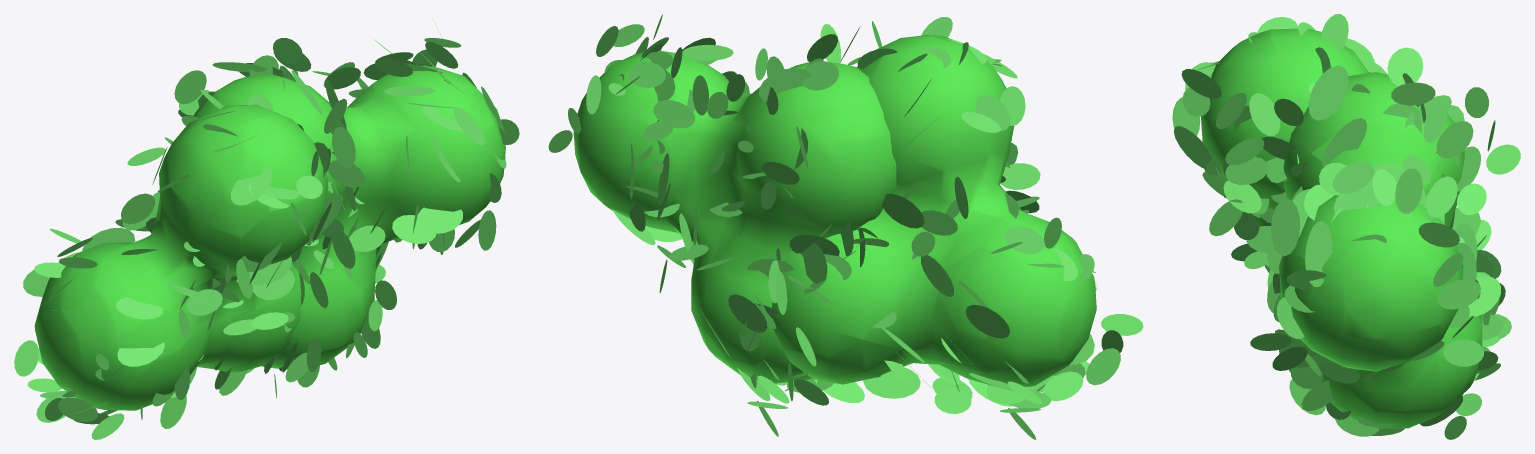
File: bush.fbx
3 renders of one model, left to right at view 1: azimuth 30°, elevation 25°; view 2: azimuth 150°, elevation 25°; view 3: azimuth 270°, elevation 25°, orthographic. The views are drawn at different scales.
Visible parts, largest first — view 1: Mball.001, Mball.003, Mball.001|leaves|Dupli|, Mball.001|leaves|Dupli|30, Mball.003|leaves|Dupli|48, Mball.003|leaves|Dupli|, Mball.001|leaves|Dupli|3, Mball.003|leaves|Dupli|18, Mball.001|leaves|Dupli|12, Mball.001|leaves|Dupli|48, Mball.001|leaves|Dupli|27, Mball.003|leaves|Dupli|27 (+24 smaller); view 2: Mball.001, Mball.003, Mball.003|leaves|Dupli|36, Mball.001|leaves|Dupli|12, Mball.003|leaves|Dupli|48, Mball.001|leaves|Dupli|3, Mball.003|leaves|Dupli|18, Mball.001|leaves|Dupli|30, Mball.003|leaves|Dupli|12, Mball.001|leaves|Dupli|6, Mball.003|leaves|Dupli|, Mball.001|leaves|Dupli|24 (+20 smaller); view 3: Mball.003, Mball.001, Mball.003|leaves|Dupli|18, Mball.003|leaves|Dupli|, Mball.001|leaves|Dupli|, Mball.003|leaves|Dupli|39, Mball.003|leaves|Dupli|48, Mball.001|leaves|Dupli|45, Mball.001|leaves|Dupli|39, Mball.001|leaves|Dupli|36, Mball.003|leaves|Dupli|36, Mball.003|leaves|Dupli|45 (+20 smaller).
Part boxes in pixels (x1,y1,x2,y2): Mball.001: (34,104,328,410); Mball.003: (194,65,505,369); Mball.001|leaves|Dupli|: (282,99,355,242); Mball.001|leaves|Dupli|30: (14,269,65,422); Mball.003|leaves|Dupli|48: (174,62,283,116); Mball.003|leaves|Dupli|: (413,18,505,144); Mball.001|leaves|Dupli|3: (127,134,272,205); Mball.003|leaves|Dupli|18: (273,38,346,128); Mball.001|leaves|Dupli|12: (40,354,117,421); Mball.001|leaves|Dupli|48: (219,312,321,398); Mball.001|leaves|Dupli|27: (49,228,163,319); Mball.003|leaves|Dupli|27: (297,280,396,387); Mball.001: (772,35,1096,387); Mball.003: (573,50,896,383); Mball.003|leaves|Dupli|36: (643,44,733,173); Mball.001|leaves|Dupli|12: (1009,285,1143,408); Mball.003|leaves|Dupli|48: (760,61,838,215); Mball.001|leaves|Dupli|3: (945,38,1025,132); Mball.003|leaves|Dupli|18: (707,34,837,152); Mball.001|leaves|Dupli|30: (946,304,1045,439); Mball.003|leaves|Dupli|12: (701,294,789,436); Mball.001|leaves|Dupli|6: (911,177,968,256); Mball.003|leaves|Dupli|: (596,14,715,95); Mball.001|leaves|Dupli|24: (884,352,972,413); Mball.003: (1279,72,1482,428); Mball.001: (1201,28,1370,269); Mball.003|leaves|Dupli|18: (1308,65,1473,167); Mball.003|leaves|Dupli|: (1271,162,1434,286); Mball.001|leaves|Dupli|: (1173,82,1314,180); Mball.003|leaves|Dupli|39: (1334,175,1480,309); Mball.003|leaves|Dupli|48: (1387,47,1520,174); Mball.001|leaves|Dupli|45: (1223,137,1271,225); Mball.001|leaves|Dupli|39: (1172,69,1226,198); Mball.001|leaves|Dupli|36: (1209,167,1274,253); Mball.003|leaves|Dupli|36: (1319,155,1486,214); Mball.003|leaves|Dupli|45: (1293,163,1457,236).
Size of the model in its own units: 749 by 515 by 430.
